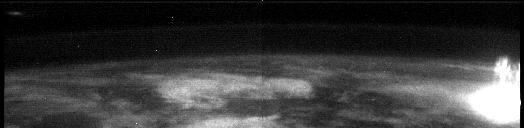positive: (491, 56, 521, 85)
